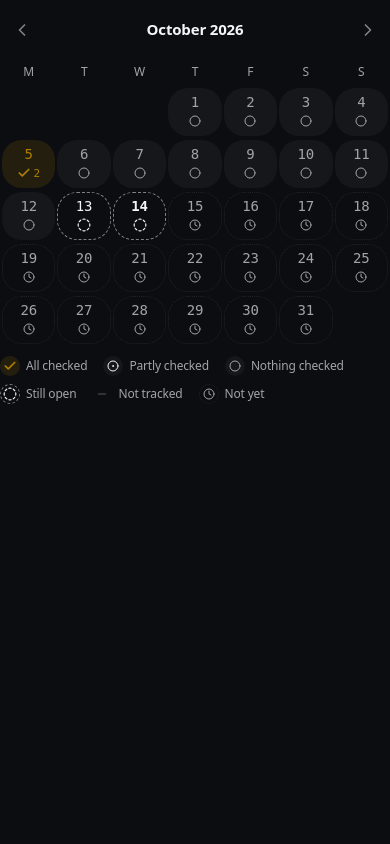
HabitsHistory › opens a closed day in the day sheet
Click the button named "Monday 5 October: All checked" at (29, 164), box left=2, top=140, right=55, bottom=188
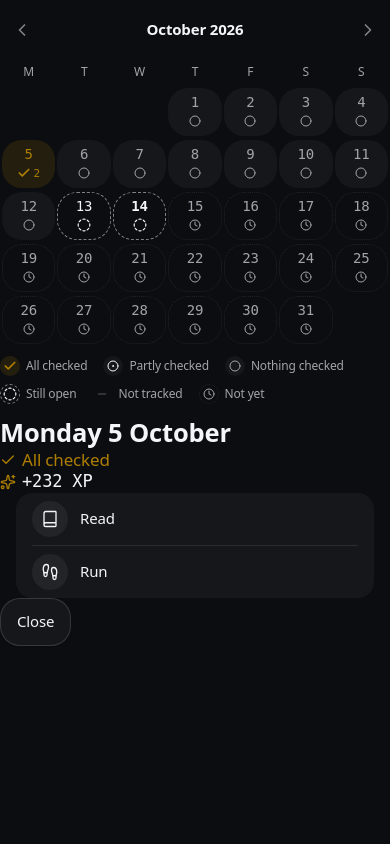
Expected: the heading "Monday 5 October" is shown, left=0, top=415, right=231, bottom=449
Expected: the list items read "Read", "Run", in this order, left=32, top=493, right=358, bottom=546; left=32, top=554, right=107, bottom=590
Expected: the buttons read "Close", in this order, left=0, top=598, right=71, bottom=646
